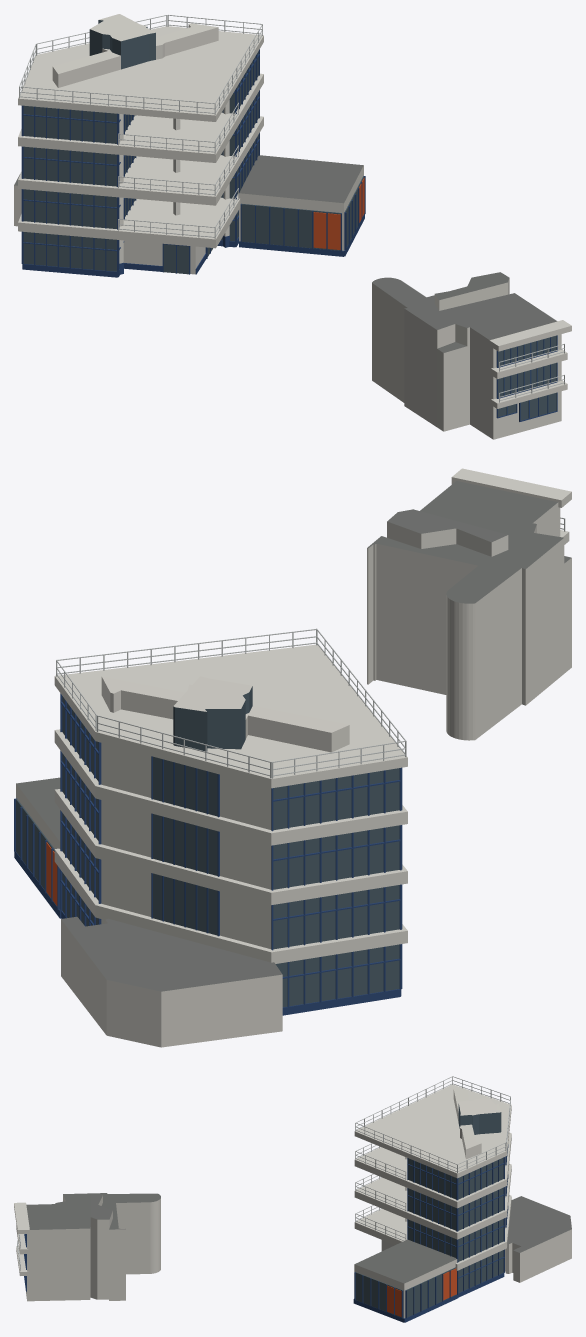
Rendered from eerste-openluchtschool.glb.
3 views of the same model, one above another, from view 1: azimuth 30°, elevation 25°; view 2: azimuth 150°, elevation 25°; view 3: azimuth 270°, elevation 25° (orthographic). The views are drawn at different scales.
Visible parts, largest first — view 1: eerste-openluchtschool; view 2: eerste-openluchtschool; view 3: eerste-openluchtschool.
Boxes of the visible parts, x1=… form: eerste-openluchtschool: x1=14, y1=14, x2=571, y2=439; eerste-openluchtschool: x1=14, y1=468, x2=571, y2=1047; eerste-openluchtschool: x1=14, y1=1076, x2=571, y2=1322.
Bounding box in the file's own units: 29.68 × 18.15 × 62.31.
